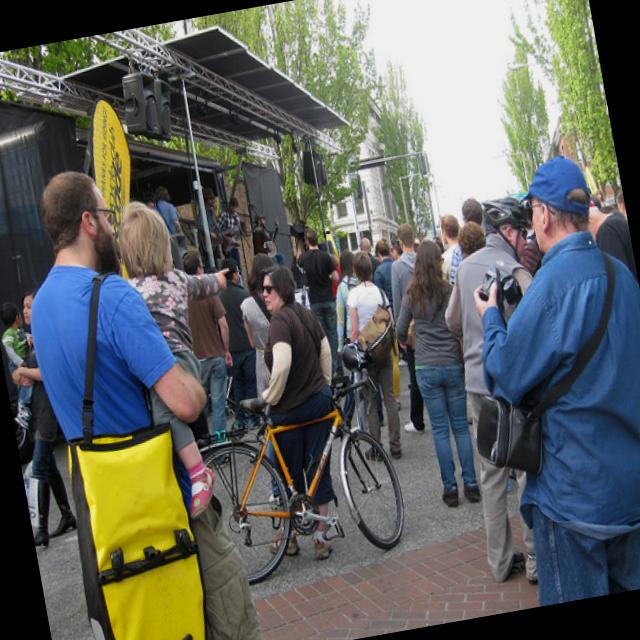Vehicle: (0, 110, 129, 462)
